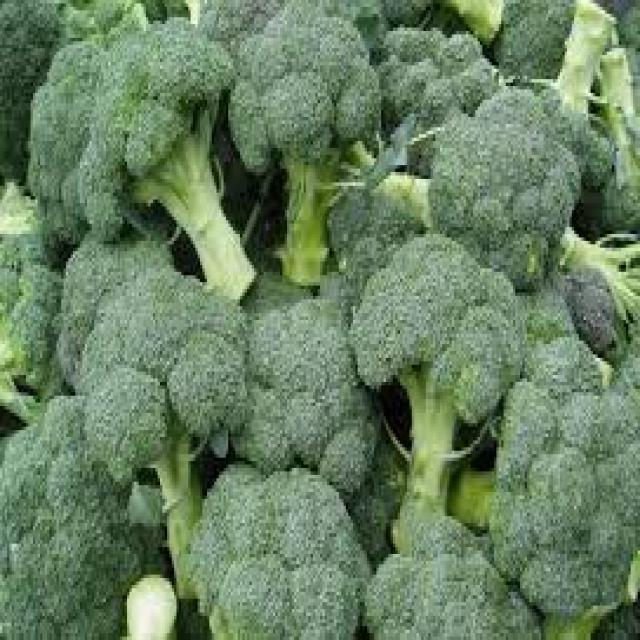broccoli: (9, 3, 640, 640)
